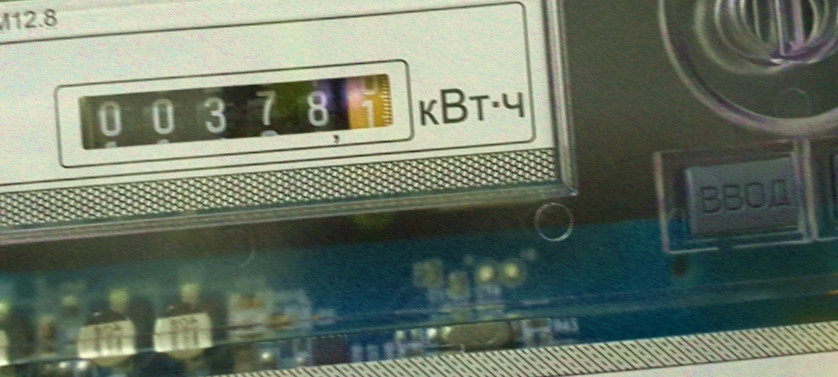0: (97, 96, 125, 137), (150, 94, 176, 134), (357, 72, 380, 95)
1: (358, 95, 378, 128)
3: (201, 93, 228, 134)
7: (253, 86, 278, 126)
8: (304, 86, 330, 127)
screen: (57, 54, 412, 160)
